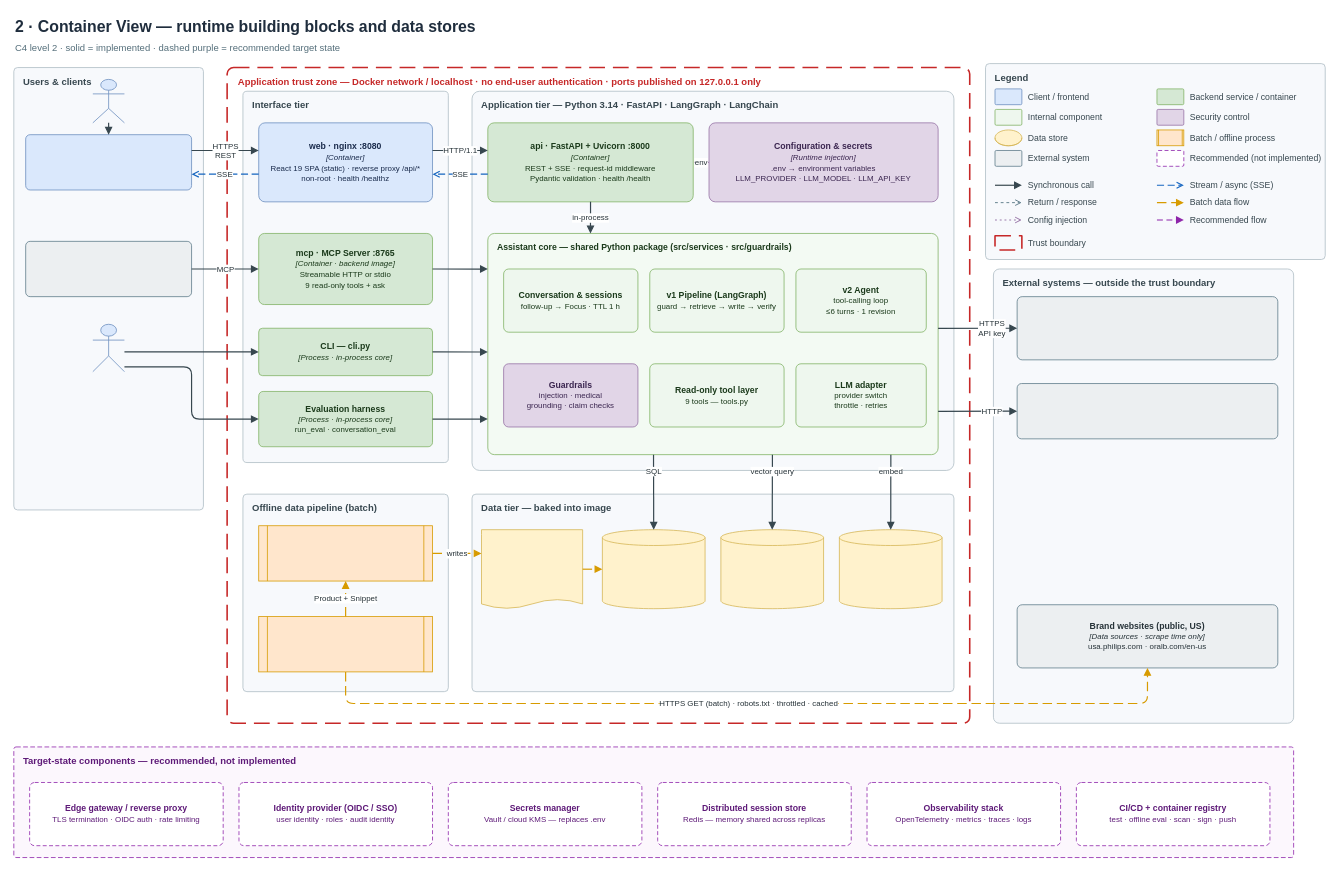
The diagram is 1339 pixels wide and 871 high, and some of its shapes have lost their labels. The centre of each missing label's shape, as x and y in pixels:
Analyst: the point at 108,101
build_dataset → build_stores normalize · write files · load stores: the point at 345,553
Chroma vector index 722 snippet vectors: the point at 772,569
Dataset files products.json snippets.jsonl comparison_table.csv: the point at 532,569
Developer / CI: the point at 108,348
Embedding model bge-small-en-v1.5 ONNX · fastembed: the point at 890,569
Google Gemini API [SaaS LLM · HTTPS] native API · thought signatures: the point at 1147,328
MCP client [External client] Kiro / Claude Desktop: the point at 108,269
Ollama (optional) [Self-hosted LLM] OpenAI-compatible HTTP :11434: the point at 1147,411
Scraper robots.txt · 2 s/host · retry · cache philips.py · oralb.py parsers: the point at 345,644
SQLite comparison.db products · snippets evidence: the point at 653,569
Web browser [Client] React SPA runtime: the point at 108,162
